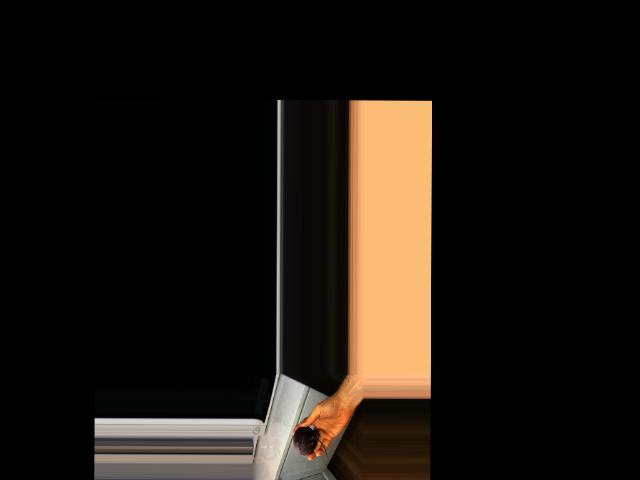beet: (293, 426, 327, 458)
